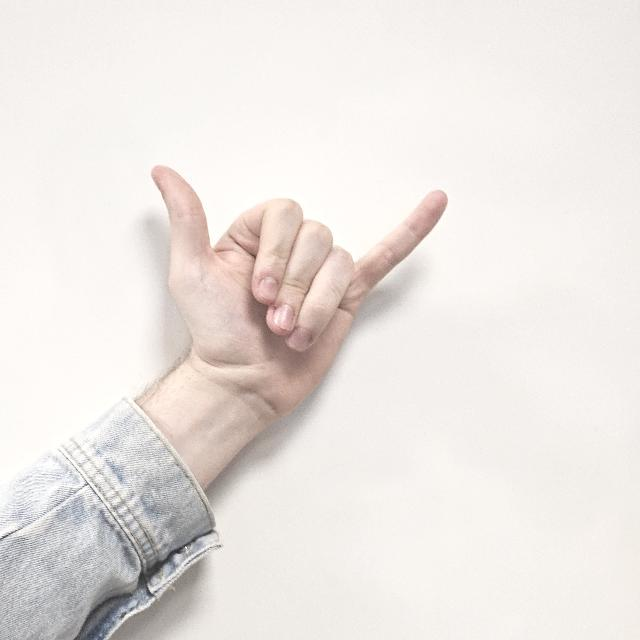Direita: (138, 144, 470, 434)
